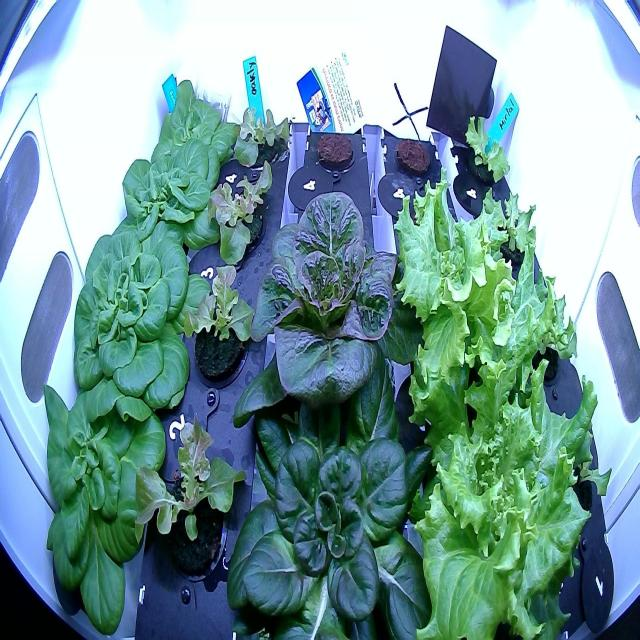Ready: (206, 336, 447, 640), (221, 178, 436, 466)
pod: (392, 126, 434, 182), (313, 126, 357, 176)
young: (29, 374, 172, 638), (62, 197, 214, 430), (102, 127, 226, 270), (143, 68, 245, 180)
